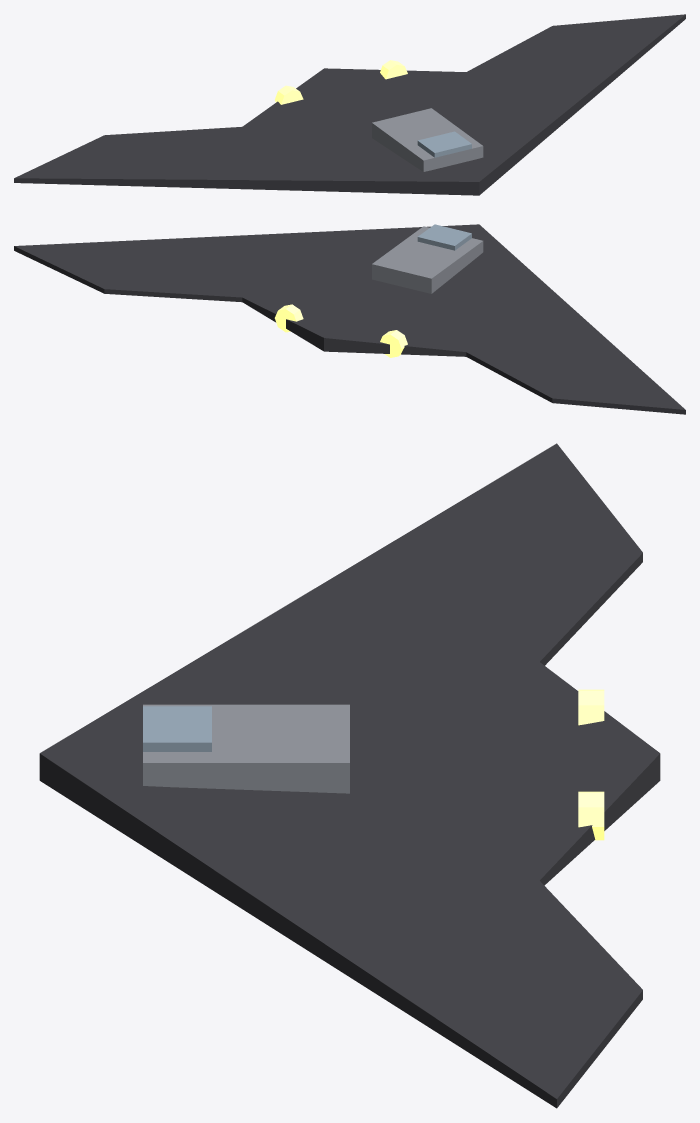
The model's file is stealth.glb.
3 renders of one model, top to bottom at view 1: azimuth 30°, elevation 25°; view 2: azimuth 150°, elevation 25°; view 3: azimuth 270°, elevation 25°, orthographic. The views are drawn at different scales.
Visible parts, largest first — view 1: stealth; view 2: stealth; view 3: stealth.
Part boxes in pixels (x1,y1,x2,y2): stealth: (14,14,685,195); stealth: (14,224,685,414); stealth: (39,443,660,1108).
Bounding box in the file's own units: 18 × 0.82 × 7.2.
